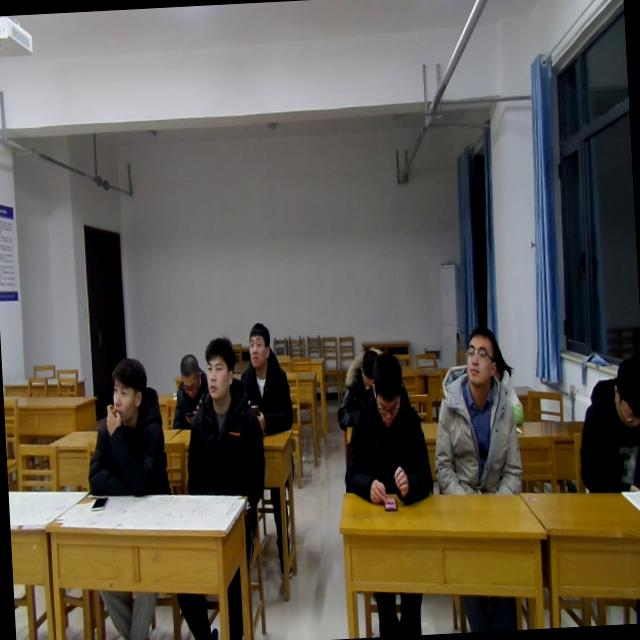bow: (334, 347, 386, 432)
down: (370, 350, 408, 435), (607, 352, 640, 436), (175, 348, 203, 401), (354, 345, 376, 388)
lookup: (200, 333, 240, 406), (107, 355, 152, 418), (463, 322, 502, 389), (244, 315, 274, 370)
sit: (429, 321, 523, 499), (335, 347, 435, 505), (179, 334, 269, 498), (80, 352, 174, 502), (573, 353, 640, 497), (234, 320, 294, 439), (168, 349, 212, 430)
